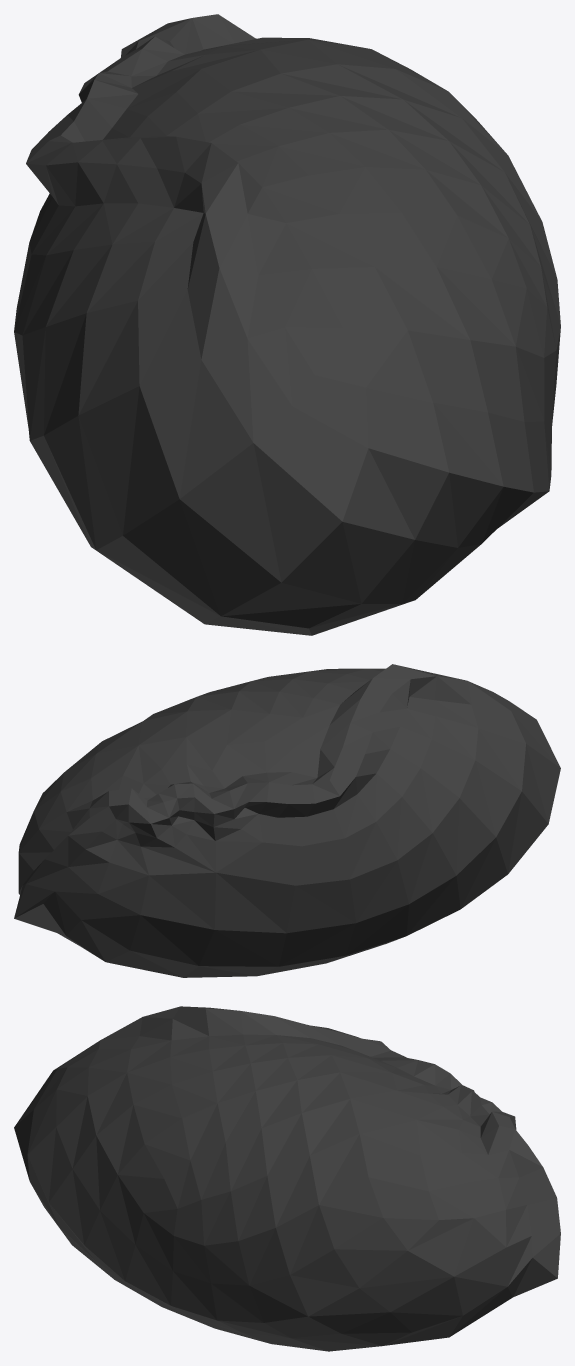
File: Ovary_R.glb
The picture shows the model from 3 angles, top to bottom: view 1: azimuth 30°, elevation 25°; view 2: azimuth 150°, elevation 25°; view 3: azimuth 270°, elevation 25°; orthographic projection. The views are drawn at different scales.
Parts seen in each view (by area): view 1: Ovary_R; view 2: Ovary_R; view 3: Ovary_R.
Part boxes in pixels (box(x1,y1,x2,y2)): Ovary_R: box(14, 14, 560, 635); Ovary_R: box(14, 664, 560, 977); Ovary_R: box(14, 1006, 560, 1351).
Size of the model in its own units: 0.4124 by 0.3071 by 0.5458.
1 material, 1 textured.
